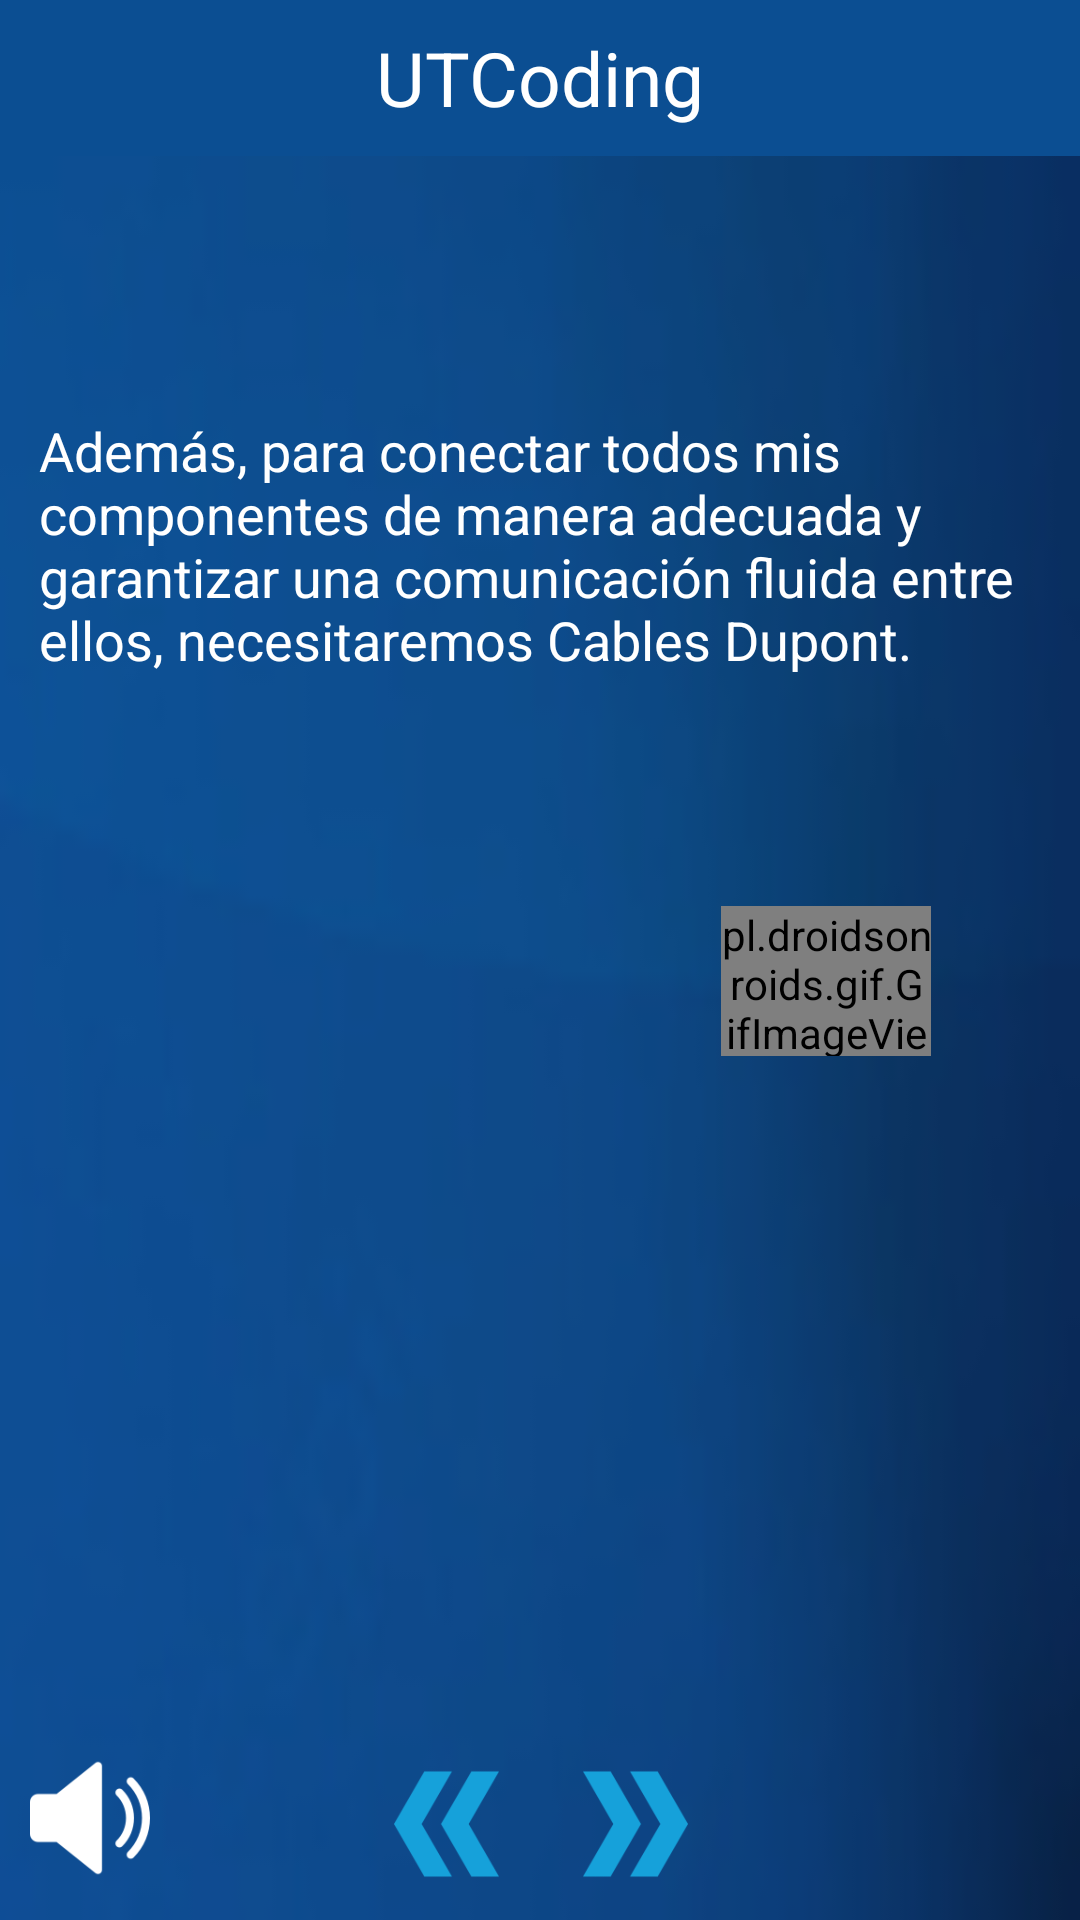

Named icons in this screenshot (1080*1920) and their centers, (x,y):
regresar: (446,1824)
siguiente: (635,1824)
sonido: (90,1818)
